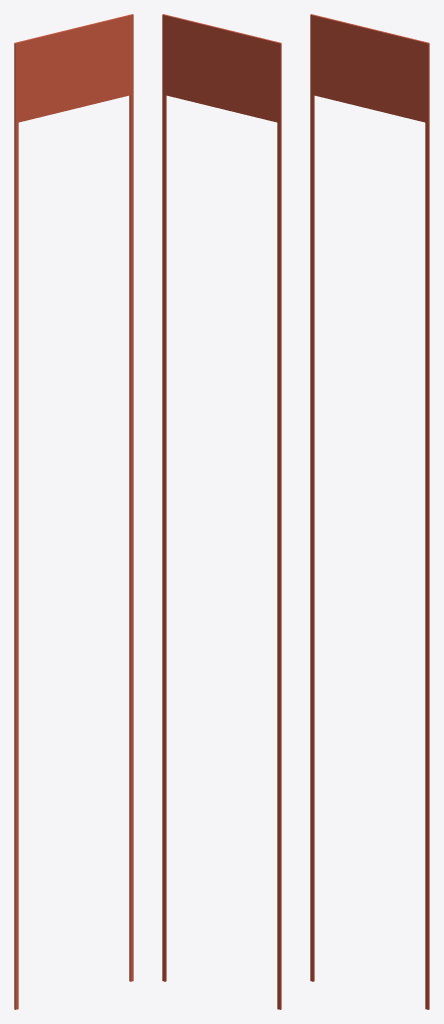
Rendered from marker2_red_LOD1.gltf.
3 renders of one model, left to right at view 1: azimuth 30°, elevation 25°; view 2: azimuth 150°, elevation 25°; view 3: azimuth 330°, elevation 25°, orthographic.
Visible parts, largest first — view 1: Box001; view 2: Box001; view 3: Box001.
Boxes of the visible parts, x1,y1,x2,y2 form: Box001: (14, 14, 133, 1009); Box001: (162, 14, 281, 1009); Box001: (310, 14, 429, 1009).
Bounding box in the file's own units: 0.7 × 5.45 × 0.01.
